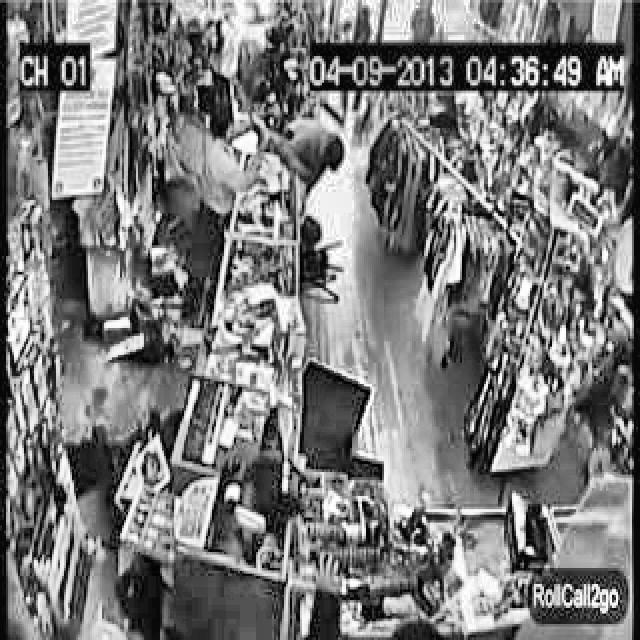robbery: (180, 107, 348, 217)
